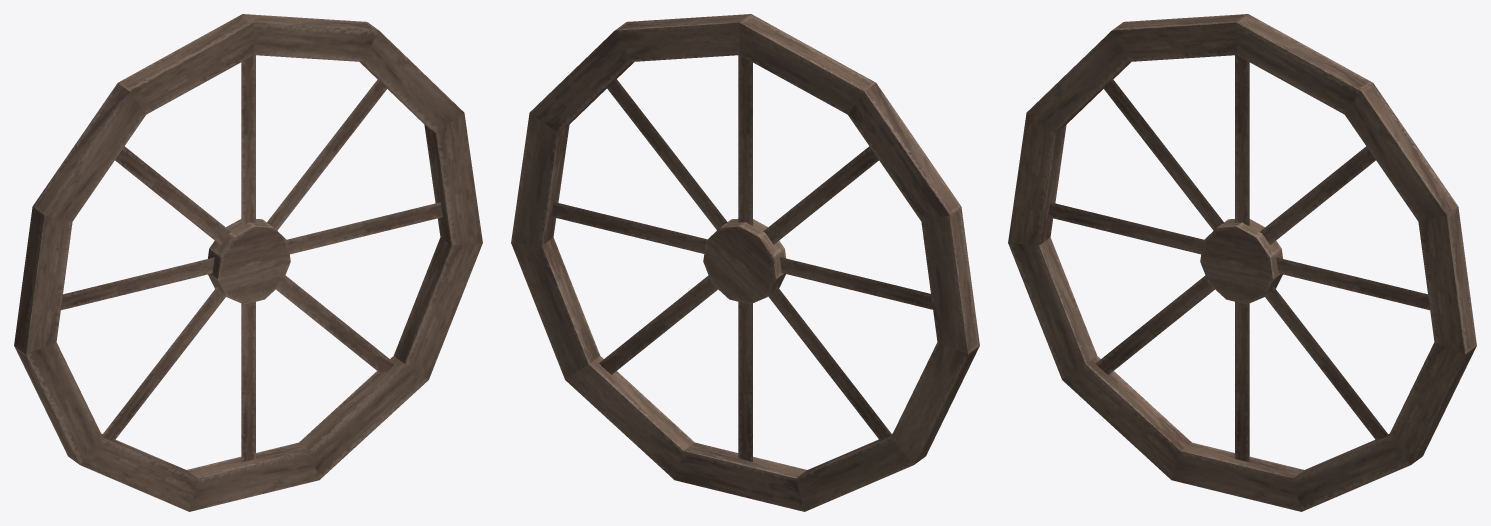
The model's file is Big.Wheel.fbx.
The picture shows the model from 3 angles, left to right: view 1: azimuth 30°, elevation 25°; view 2: azimuth 150°, elevation 25°; view 3: azimuth 330°, elevation 25°; orthographic projection.
Visible parts, largest first — view 1: Big.Wheel; view 2: Big.Wheel; view 3: Big.Wheel.
Boxes of the visible parts, box(x1,y1,x2,y2) form: Big.Wheel: box(14, 14, 482, 511); Big.Wheel: box(511, 14, 979, 511); Big.Wheel: box(1008, 14, 1476, 511).
Size of the model in its own units: 128 by 126 by 5.75.
